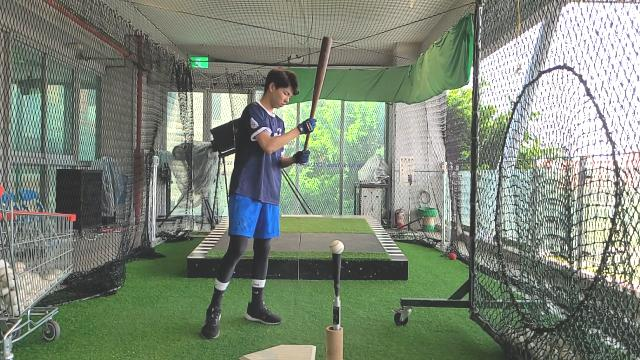ball: (330, 240, 344, 256)
bat: (309, 36, 333, 120)
